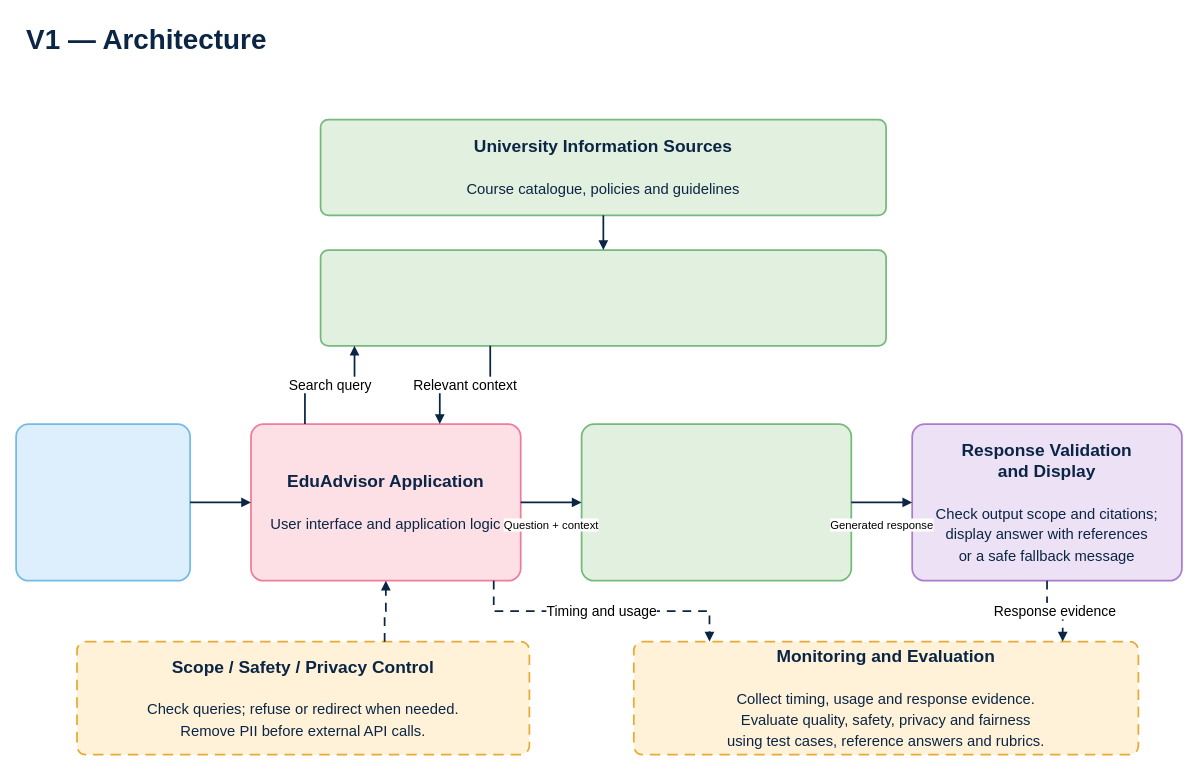
Some shapes in this 1197 by 770 pixel diagram are drawn without their labels. The box of each missing label's shape, as (x1, y1, x2, y2) in pixels:
Knowledge Access Prepare, retrieve and update documents: (319, 249, 887, 346)
Model API Generates a clear response using provided context: (580, 423, 852, 581)
Student Asks academic questions: (15, 423, 191, 581)
